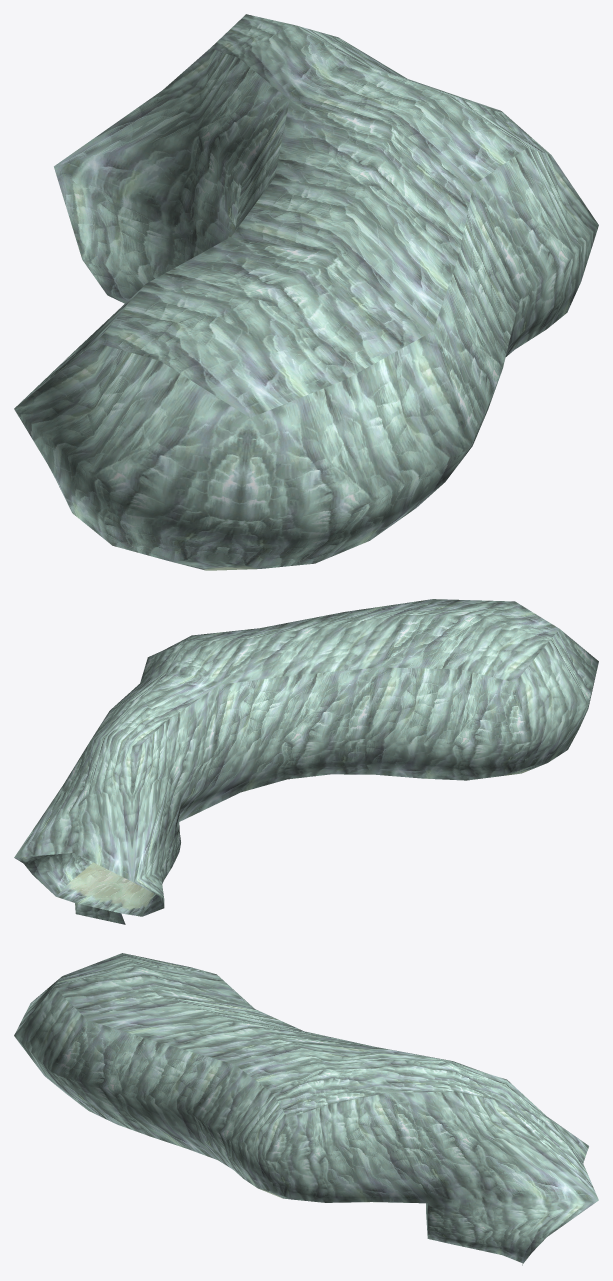
The model's file is TROLLHOLE02_PS-MAINCAVE08.fbx.
3 renders of one model, top to bottom at view 1: azimuth 30°, elevation 25°; view 2: azimuth 150°, elevation 25°; view 3: azimuth 270°, elevation 25°, orthographic. The views are drawn at different scales.
Visible parts, largest first — view 1: TROLLHOLE02_PS-MAINCAVE08; view 2: TROLLHOLE02_PS-MAINCAVE08; view 3: TROLLHOLE02_PS-MAINCAVE08.
Part boxes in pixels (box(x1,y1,x2,y2)): TROLLHOLE02_PS-MAINCAVE08: box(14, 14, 598, 570); TROLLHOLE02_PS-MAINCAVE08: box(14, 599, 598, 924); TROLLHOLE02_PS-MAINCAVE08: box(14, 953, 598, 1265).
Size of the model in its own units: 168771 by 92702 by 245192.
4 materials, 4 textured.
